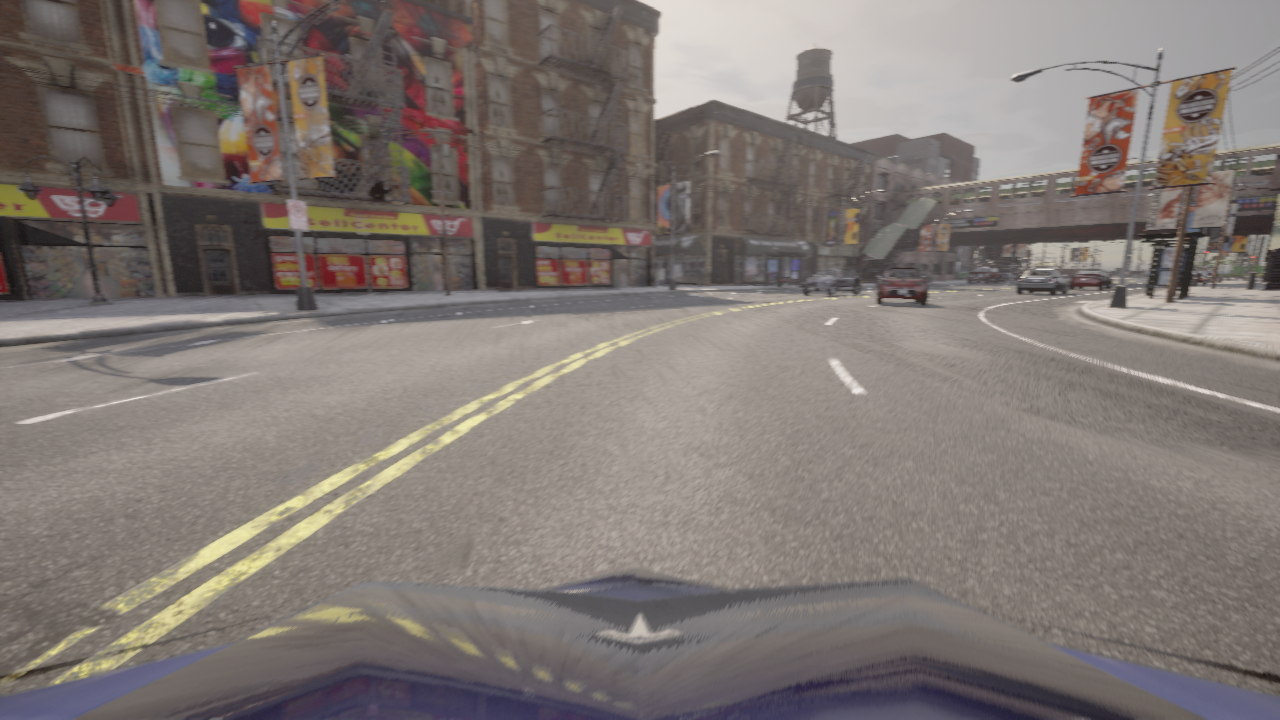cyclist: (0, 569, 1279, 719), (876, 267, 928, 305), (800, 269, 860, 295), (1016, 269, 1068, 294), (1069, 270, 1112, 289), (967, 267, 998, 283), (990, 273, 1015, 282), (1192, 272, 1207, 286), (1193, 271, 1210, 282), (1199, 270, 1213, 282), (1014, 274, 1021, 280)
